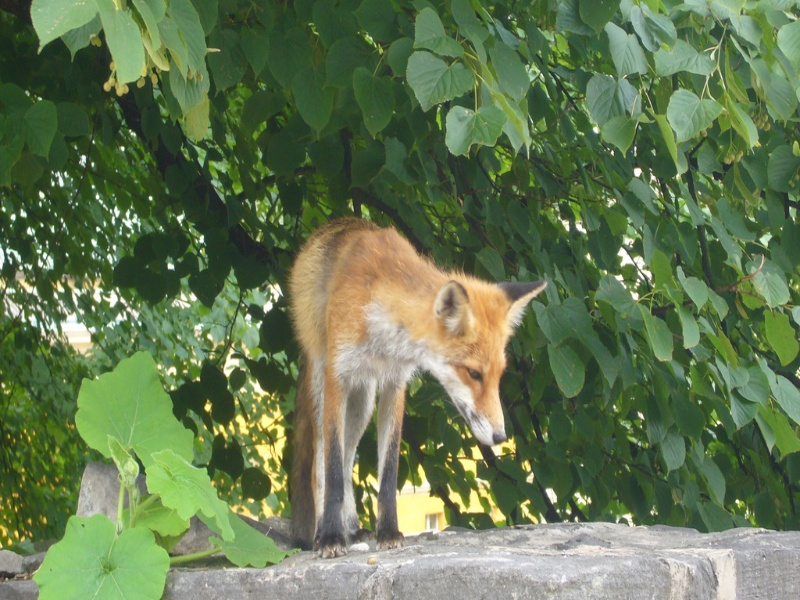fox: (278, 218, 561, 551)
